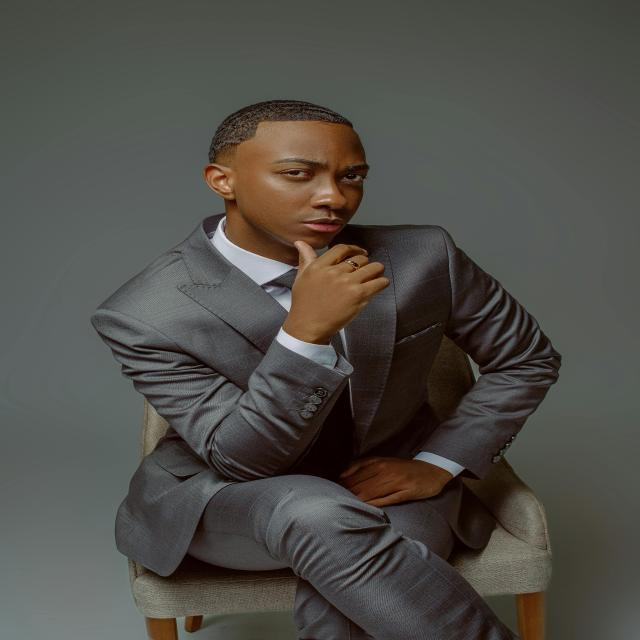human: (82, 95, 585, 640)
